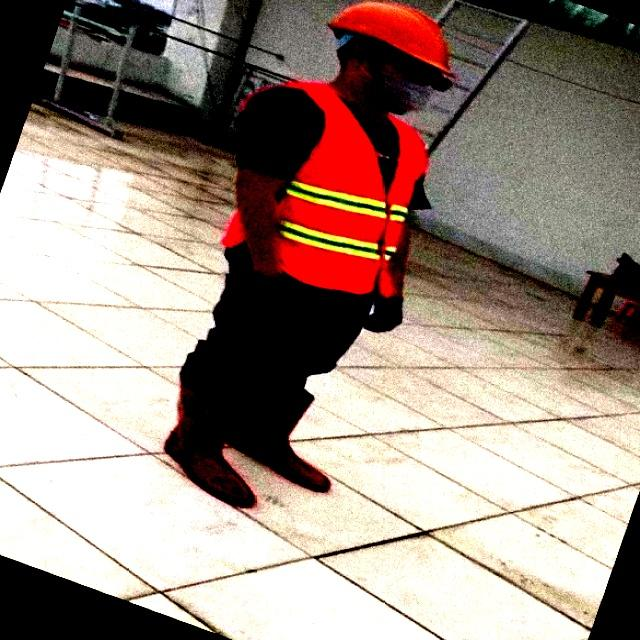Capacete: (328, 2, 454, 85)
Colete: (277, 82, 427, 296)
